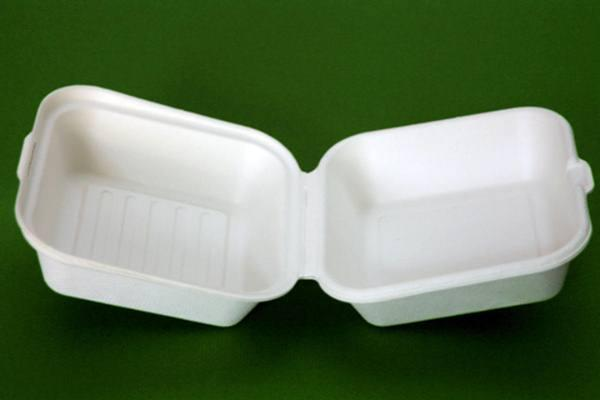PS: (0, 18, 600, 368)
